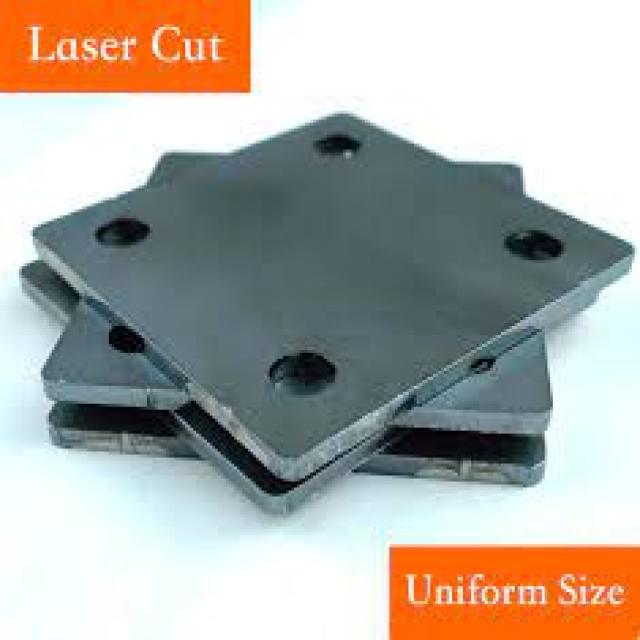holes: (267, 350, 335, 389), (504, 227, 564, 260), (93, 215, 150, 245), (106, 323, 144, 353), (313, 132, 359, 156)
